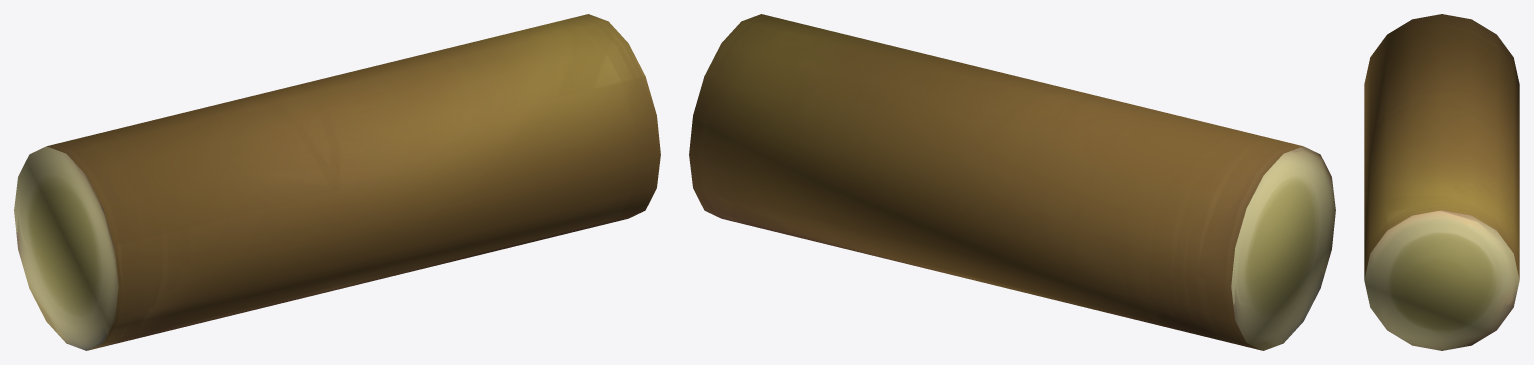
File: Log.fbx
3 renders of one model, left to right at view 1: azimuth 30°, elevation 25°; view 2: azimuth 150°, elevation 25°; view 3: azimuth 270°, elevation 25°, orthographic. The views are drawn at different scales.
Parts seen in each view (by area): view 1: Log; view 2: Log; view 3: Log.
Part boxes in pixels (bbox=[...]): Log: bbox=[14, 14, 660, 350]; Log: bbox=[689, 14, 1335, 350]; Log: bbox=[1364, 14, 1519, 350].
Size of the model in its own units: 598 by 200 by 200.
